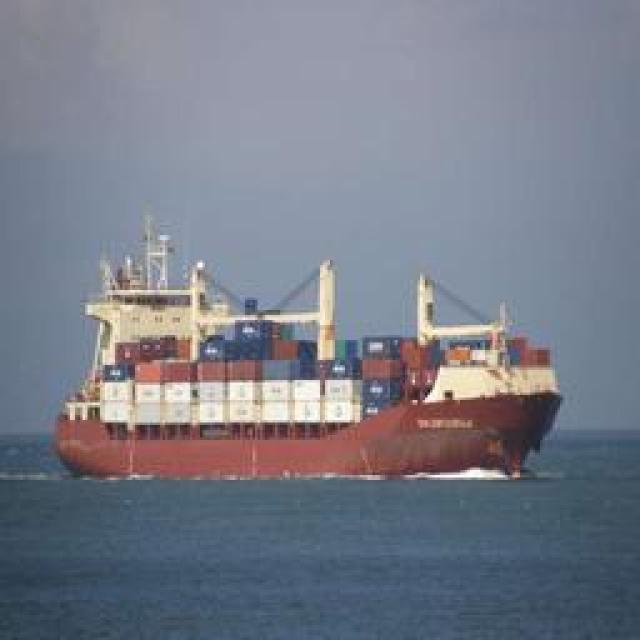ship: (61, 216, 554, 474)
